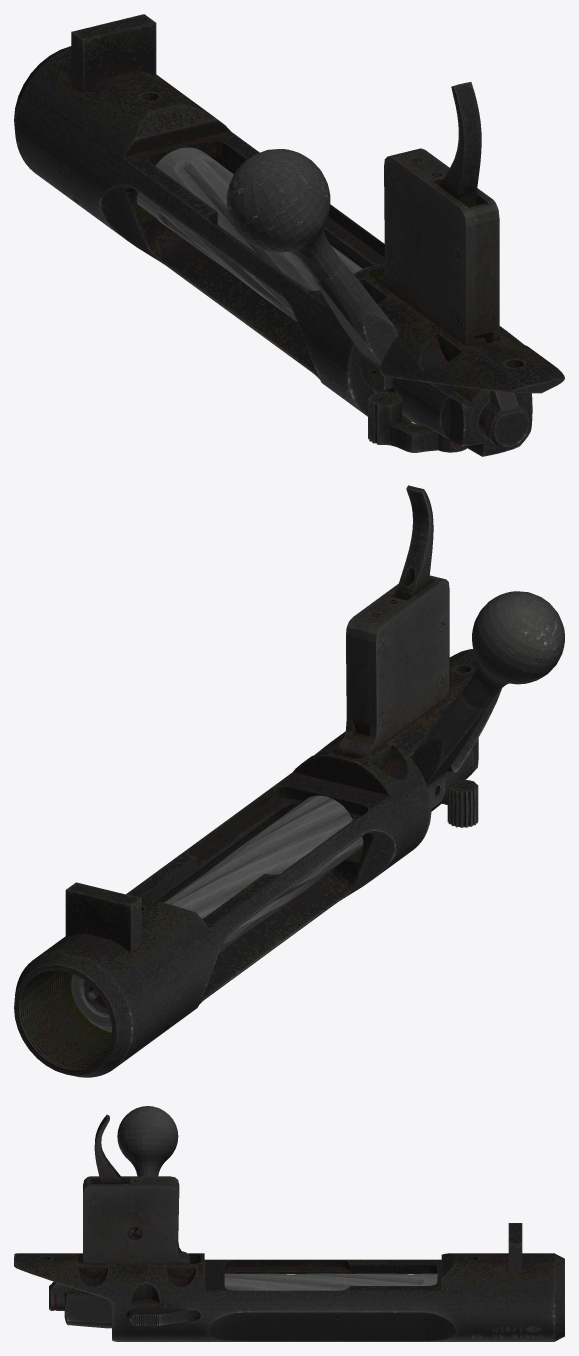
3 renders of one model, top to bottom at view 1: azimuth 30°, elevation 25°; view 2: azimuth 150°, elevation 25°; view 3: azimuth 270°, elevation 25°, orthographic. The views are drawn at different scales.
Visible parts, largest first — view 1: TW_5df24cf80dee1b22f862e9bc_PZ_Import; view 2: TW_5df24cf80dee1b22f862e9bc_PZ_Import; view 3: TW_5df24cf80dee1b22f862e9bc_PZ_Import.
Boxes of the visible parts, x1,y1,x2,y2 form: TW_5df24cf80dee1b22f862e9bc_PZ_Import: (14,14,564,456); TW_5df24cf80dee1b22f862e9bc_PZ_Import: (14,485,564,1077); TW_5df24cf80dee1b22f862e9bc_PZ_Import: (14,1106,564,1341).
Size of the model in its own units: 0.0435 by 0.1283 by 0.0568.
Materials: 1 (1 with a texture image).
